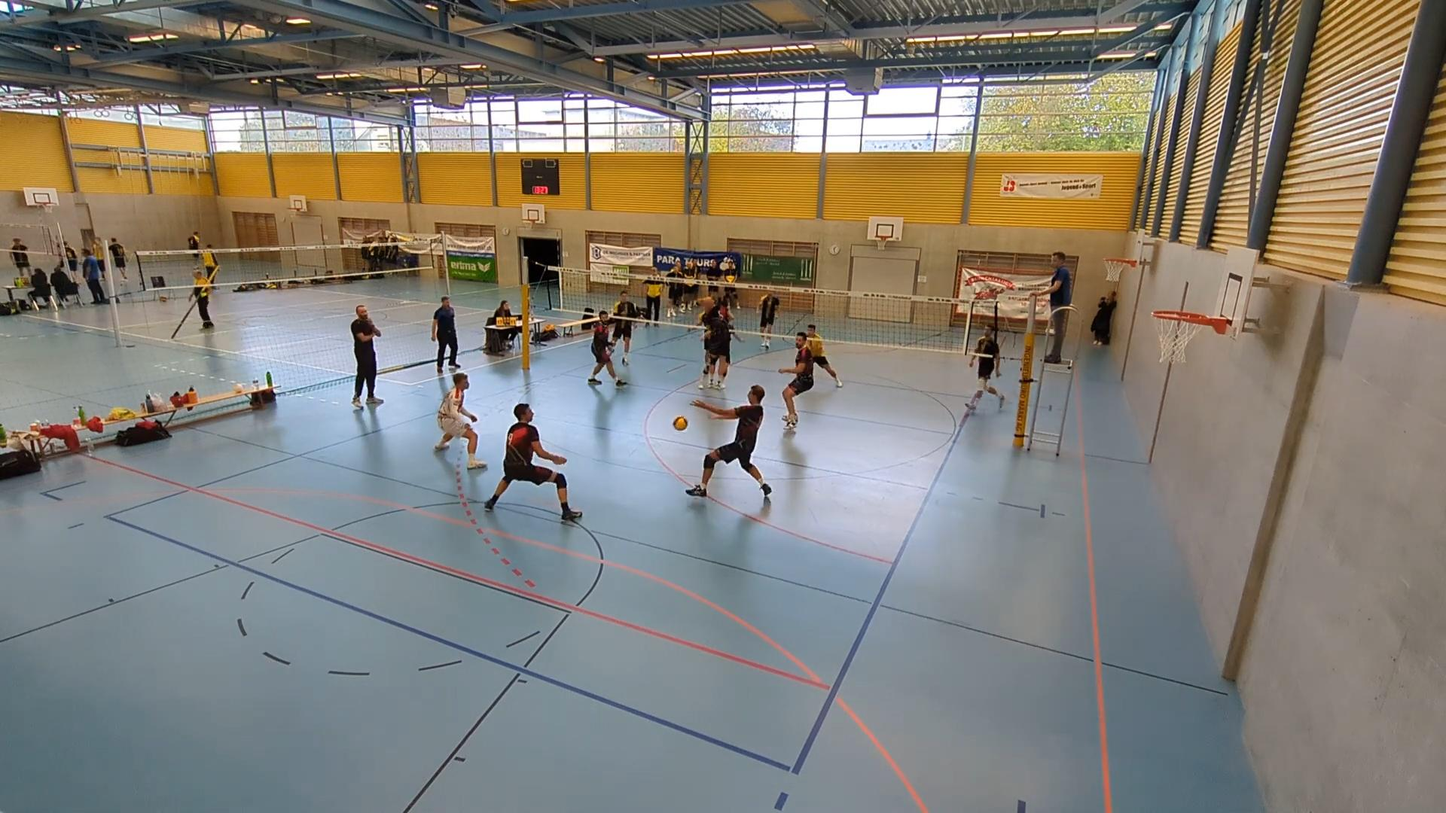difesa: (688, 387, 774, 506)
